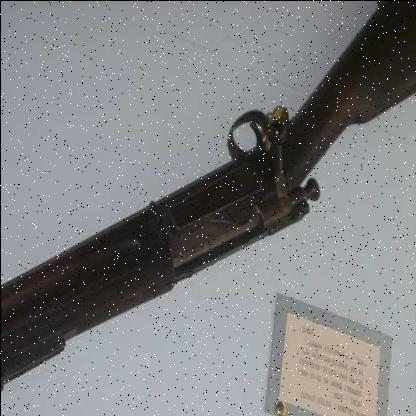rifle: (1, 1, 416, 391)
